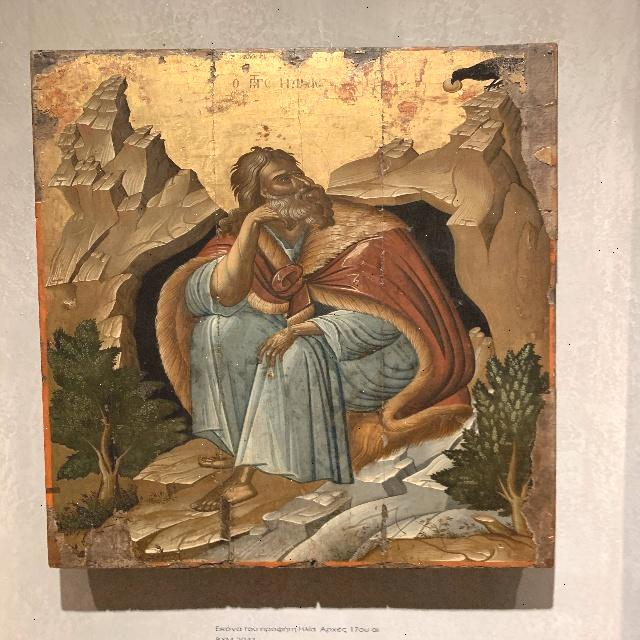aura: (201, 122, 350, 211)
prophet_elijah: (166, 110, 454, 510)
